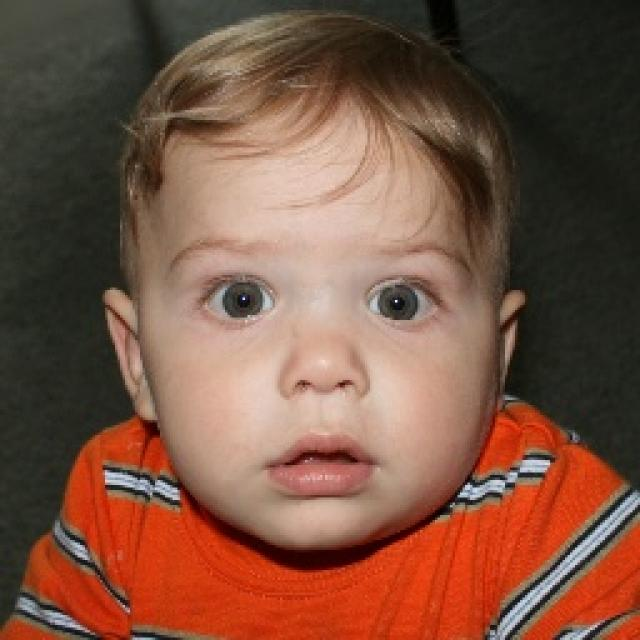earlobe: (132, 381, 162, 424)
eye: (365, 275, 443, 323), (199, 274, 276, 322)
nose: (277, 372, 375, 422)
wholeear: (101, 289, 162, 423), (497, 289, 526, 414)
